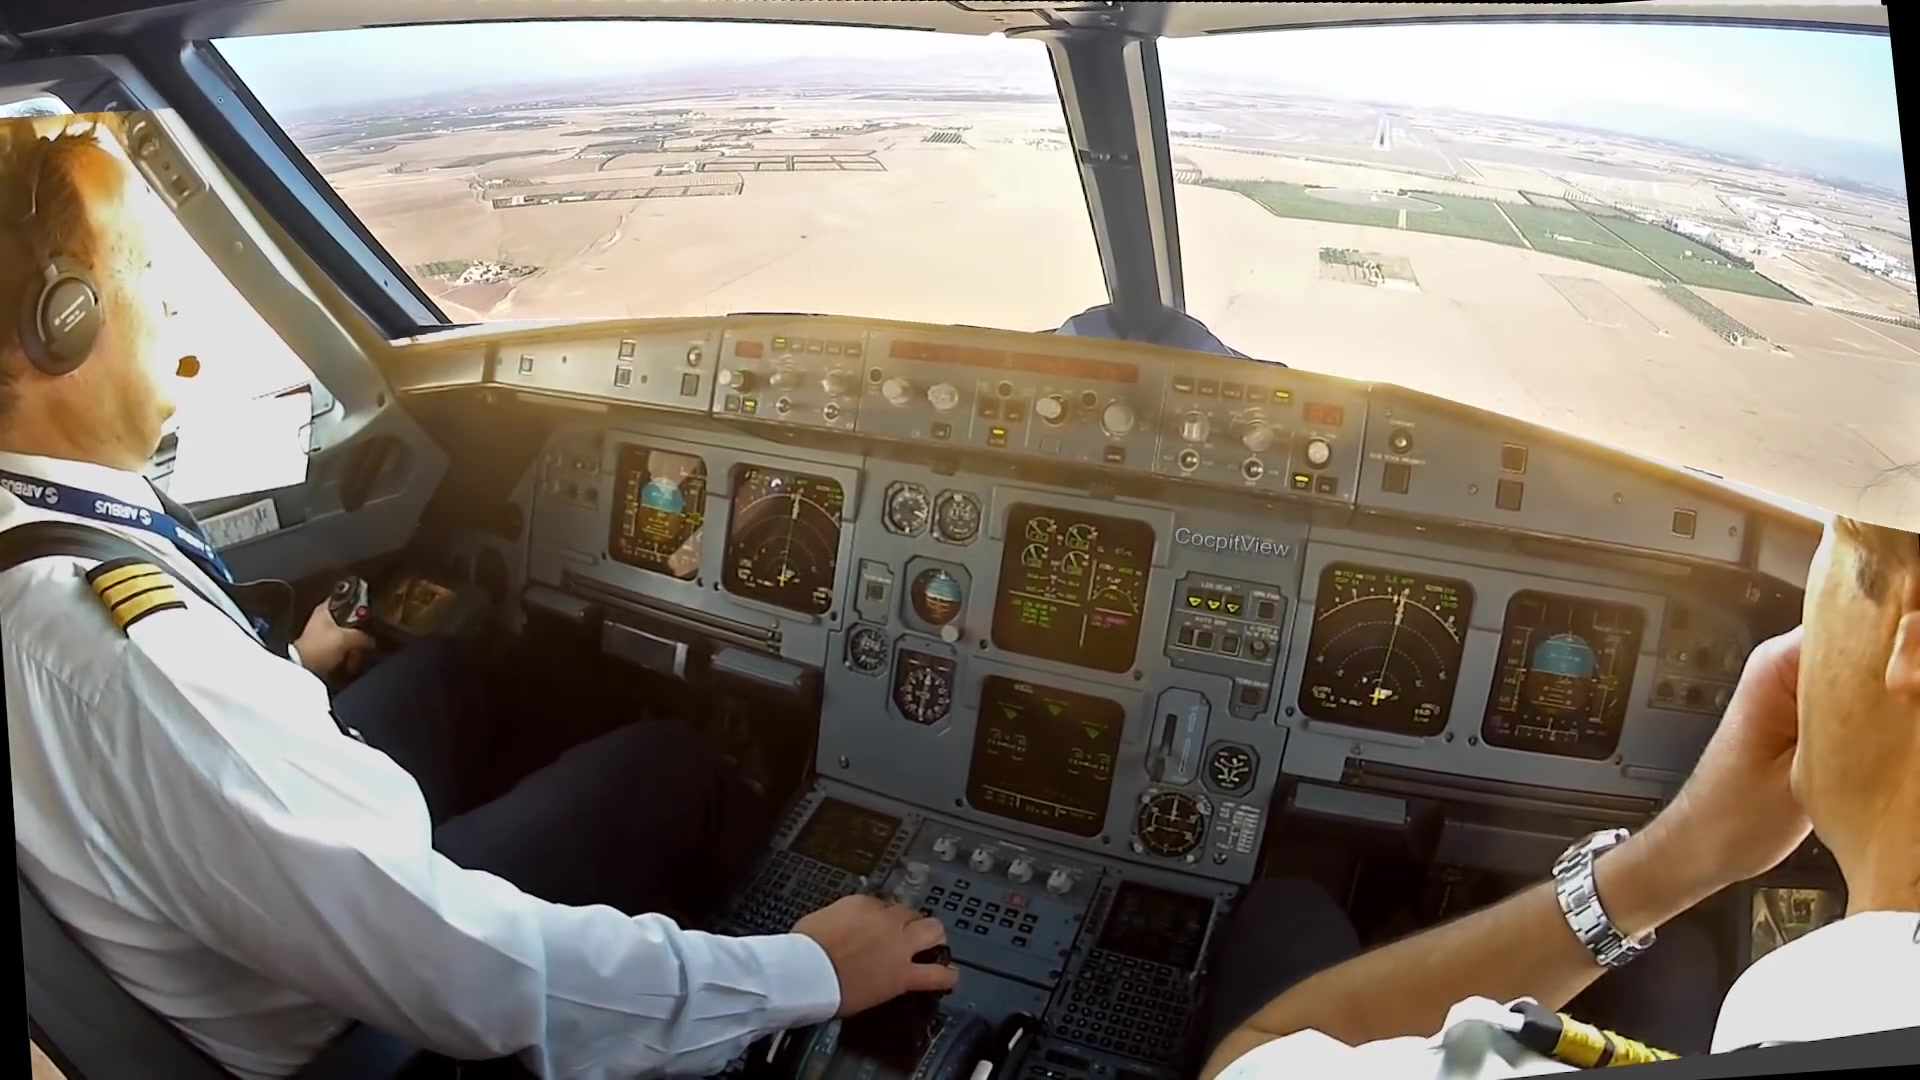runway: (1371, 113, 1394, 153)
